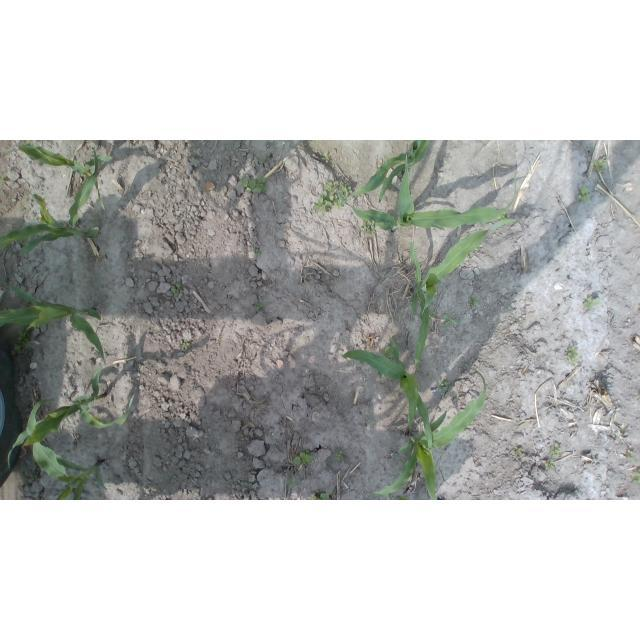Maize: (409, 218, 519, 370), (337, 142, 517, 233), (374, 372, 487, 501), (0, 366, 136, 469), (0, 147, 100, 258), (343, 334, 433, 449), (1, 285, 108, 364), (27, 399, 108, 500), (1, 141, 114, 212), (352, 140, 430, 204), (397, 495, 410, 500)
Weeds: (324, 181, 353, 206), (312, 191, 334, 214), (13, 330, 32, 355), (241, 175, 266, 194), (292, 449, 314, 465), (442, 313, 460, 329), (360, 220, 376, 235), (577, 186, 591, 203), (566, 347, 578, 366), (583, 297, 599, 311), (550, 442, 562, 458), (311, 492, 334, 500), (468, 293, 481, 307), (592, 159, 606, 172), (170, 283, 182, 298), (438, 380, 451, 392), (287, 478, 302, 488), (320, 153, 332, 165), (254, 297, 264, 311), (496, 211, 508, 222), (632, 469, 640, 484), (385, 346, 395, 358), (545, 460, 555, 471), (181, 340, 191, 351), (336, 451, 345, 462), (515, 447, 525, 456), (243, 482, 254, 490), (627, 453, 636, 461), (253, 249, 262, 256), (262, 156, 269, 164), (0, 178, 6, 185)
